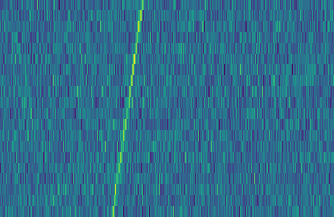signal: (106, 0, 147, 217)
